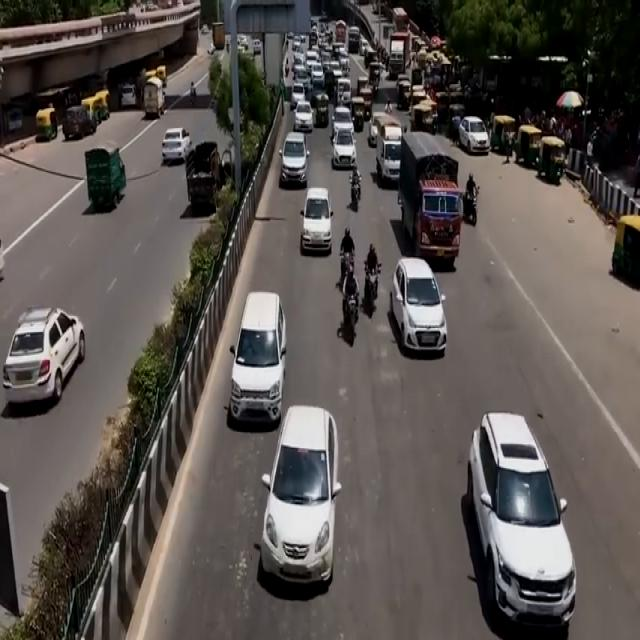MOTORCYCLE: (340, 289, 361, 353), (365, 266, 381, 321), (466, 187, 481, 229)
TRUCK: (401, 133, 464, 269), (378, 120, 402, 188)
